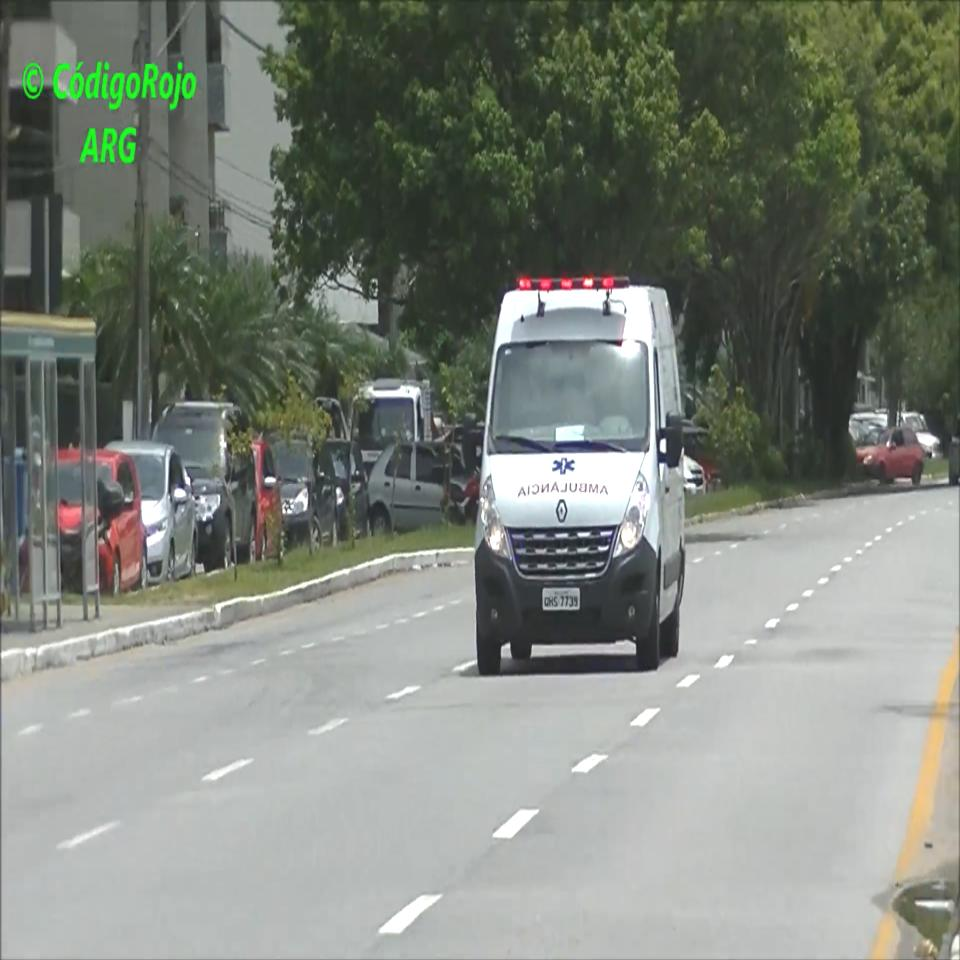ambulancia: (462, 267, 690, 679)
